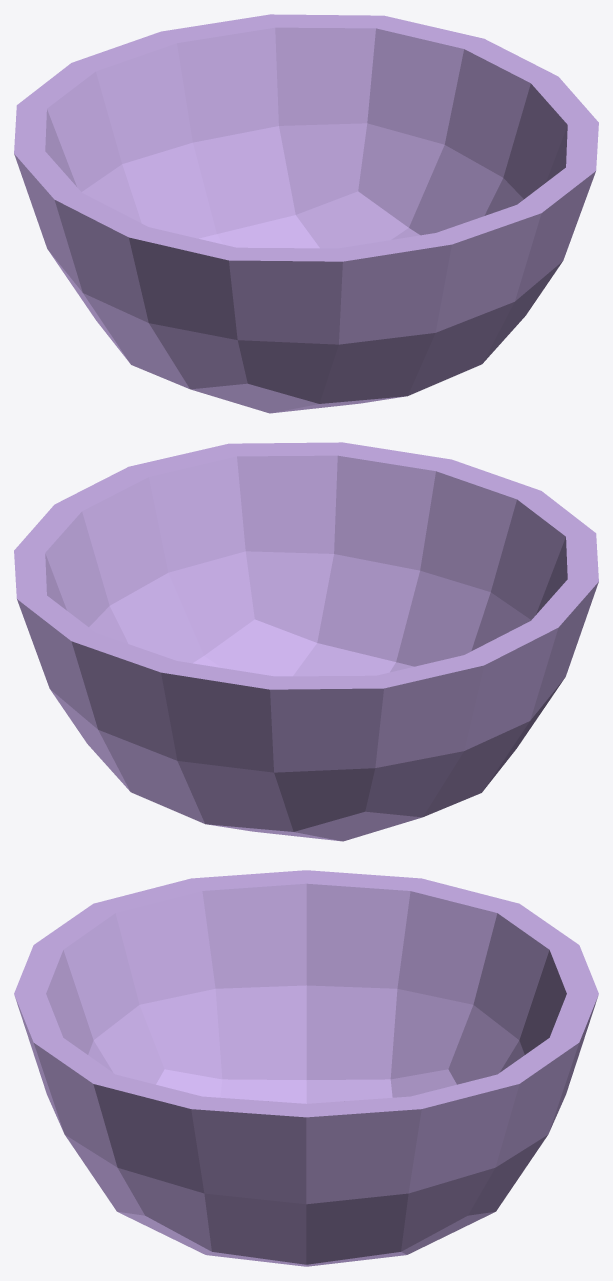
The model's file is Plate_2.fbx.
3 views of the same model, one above another, from view 1: azimuth 30°, elevation 25°; view 2: azimuth 150°, elevation 25°; view 3: azimuth 270°, elevation 25° (orthographic).
Visible parts, largest first — view 1: Plate_2; view 2: Plate_2; view 3: Plate_2.
Part boxes in pixels (<box>): Plate_2: <box>14,14,598,413</box>; Plate_2: <box>14,442,598,841</box>; Plate_2: <box>14,870,598,1266</box>.
Size of the model in its own units: 47 by 47 by 20.98.
